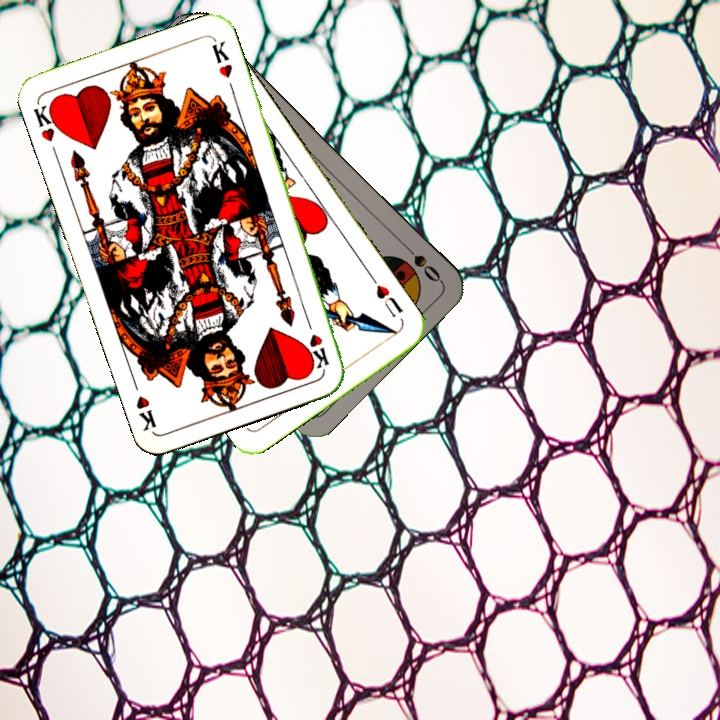HK: (301, 313, 332, 372), (29, 97, 64, 144)
HU: (371, 280, 406, 320)
SO: (397, 238, 444, 285)
